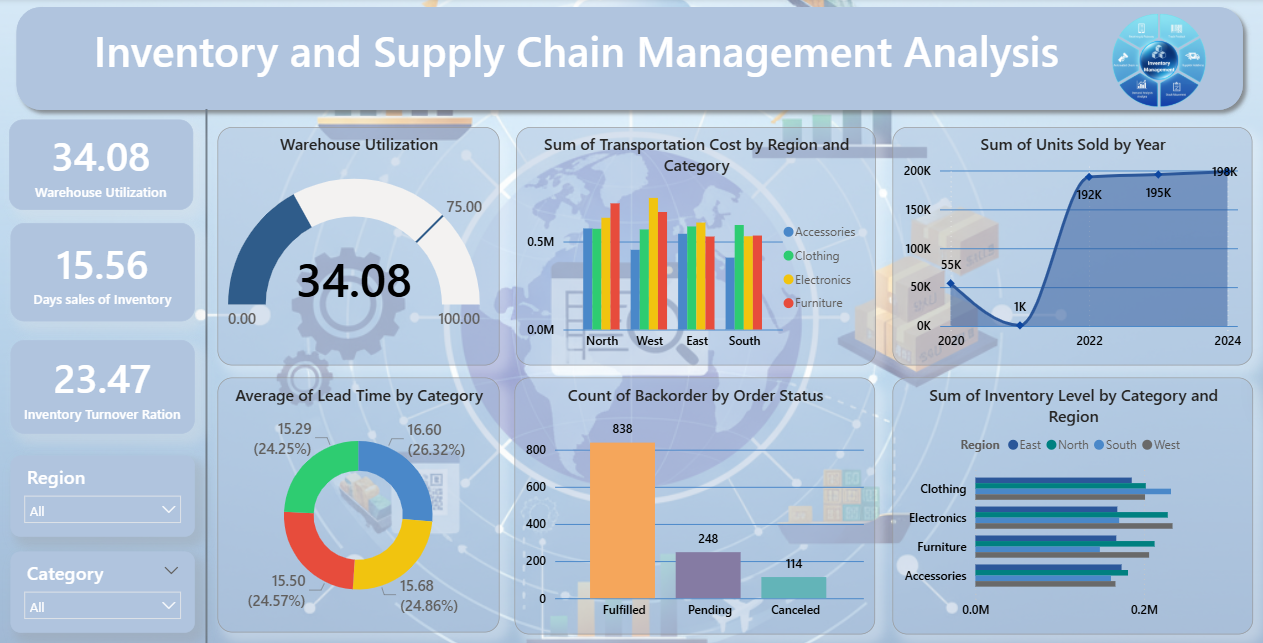

Layout of this report page (visuals, bound fields, positions):
{"tool":"powerbi","page":{"name":"Page 1","canvas":[1280,655],"ordinal":0},"visuals":[{"type":"shape","box":[10.7,0,1256.1,121.9],"z":0},{"type":"textbox","box":[73.2,18.3,1024.4,85.4],"z":1000},{"type":"shape","box":[178.3,112.8,65.5,539.6],"z":2000},{"type":"card","fields":{"Values":["Inventory and Supply Chain Dataset.Warehouse Utilization"]},"box":[12.2,121.9,186,91.5],"z":3000},{"type":"card","fields":{"Values":["Inventory and Supply Chain Dataset.Days sales of Inventory"]},"box":[13.7,227.1,186,99.1],"z":4000},{"type":"card","fields":{"Values":["Inventory and Supply Chain Dataset.Inventory Turnover Ration"]},"box":[13.7,344.5,186,94.5],"z":5000},{"type":"slicer","fields":{"Values":["Inventory and Supply Chain Dataset.Region"]},"box":[13.7,461.9,186,82.3],"z":6000},{"type":"slicer","fields":{"Values":["Inventory and Supply Chain Dataset.Category"]},"box":[13.7,559.4,186,82.3],"z":7000},{"type":"gauge","fields":{"Y":["Inventory and Supply Chain Dataset.Warehouse Utilization"]},"box":[222.6,130.2,284.7,240.8],"z":8000},{"type":"clusteredColumnChart","fields":{"Y":["Sum(Inventory and Supply Chain Dataset.Transportation Cost)"],"Category":["Inventory and Supply Chain Dataset.Region"],"Series":["Inventory and Supply Chain Dataset.Category"]},"box":[523.9,130.2,363.4,240.8],"z":9000},{"type":"image","box":[1076.2,3,192.1,118.9],"z":10000},{"type":"lineChart","fields":{"Category":["Inventory and Supply Chain Dataset.Date.Variation.Date Hierarchy.Year"],"Y":["Sum(Inventory and Supply Chain Dataset.Units Sold)"]},"box":[904,130.2,363.4,240.8],"z":11000},{"type":"donutChart","fields":{"Y":["Avg(Inventory and Supply Chain Dataset.Lead Time (Days))"],"Category":["Inventory and Supply Chain Dataset.Category"]},"box":[222.6,383.1,284.7,257.4],"z":12000},{"type":"columnChart","fields":{"Y":["CountNonNull(Inventory and Supply Chain Dataset.Backorder)"],"Category":["Inventory and Supply Chain Dataset.Order Status"]},"box":[522.8,382.6,364.3,259.1],"z":13000},{"type":"clusteredBarChart","fields":{"Y":["Sum(Inventory and Supply Chain Dataset.Inventory Level)"],"Category":["Inventory and Supply Chain Dataset.Category"],"Series":["Inventory and Supply Chain Dataset.Region"]},"box":[903.9,382.6,364.3,259.1],"z":14000}]}

Visuals, with their boxes in screenshot pixels (x1, y1, x2, y2), scaled from the page's 1280x655 canvas onto the 1263x643 screenshot:
shape: 11/0/1250/120
textbox: 72/18/1083/102
shape: 176/111/241/640
card - Inventory and Supply Chain Dataset.Warehouse Utilization: 12/120/196/209
card - Inventory and Supply Chain Dataset.Days sales of Inventory: 14/223/197/320
card - Inventory and Supply Chain Dataset.Inventory Turnover Ration: 14/338/197/431
slicer - Inventory and Supply Chain Dataset.Region: 14/453/197/534
slicer - Inventory and Supply Chain Dataset.Category: 14/549/197/630
gauge - Inventory and Supply Chain Dataset.Warehouse Utilization: 220/128/501/364
clusteredColumnChart - Sum(Inventory and Supply Chain Dataset.Transportation Cost) x Inventory and Supply Chain Dataset.Region: 517/128/876/364
image: 1062/3/1251/120
lineChart - Inventory and Supply Chain Dataset.Date.Variation.Date Hierarchy.Year x Sum(Inventory and Supply Chain Dataset.Units Sold): 892/128/1251/364
donutChart - Avg(Inventory and Supply Chain Dataset.Lead Time (Days)) x Inventory and Supply Chain Dataset.Category: 220/376/501/629
columnChart - CountNonNull(Inventory and Supply Chain Dataset.Backorder) x Inventory and Supply Chain Dataset.Order Status: 516/376/875/630
clusteredBarChart - Sum(Inventory and Supply Chain Dataset.Inventory Level) x Inventory and Supply Chain Dataset.Category: 892/376/1251/630
